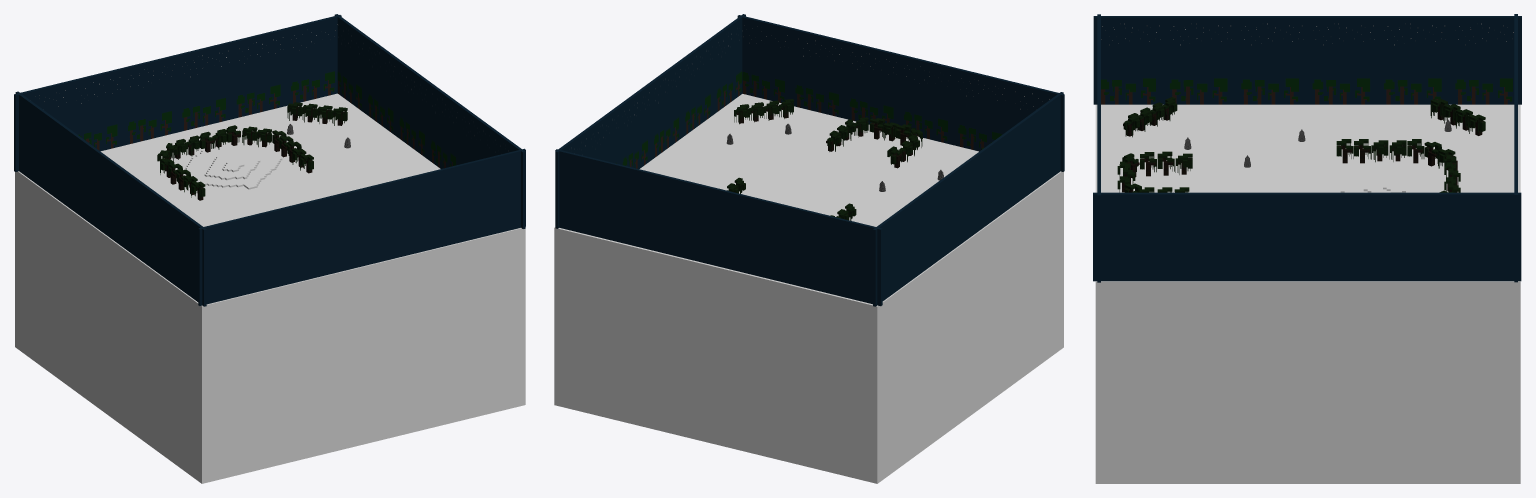
Rendered from Swamp Boss Level.fbx.
3 views of the same model, side by side, from view 1: azimuth 30°, elevation 25°; view 2: azimuth 150°, elevation 25°; view 3: azimuth 270°, elevation 25° (orthographic). The views are drawn at different scales.
Visible parts, largest first — view 1: Cube.002, Cube.032, Cube.001, Cube.013, Cube.008, Cube.526, Cube.010; view 2: Cube.002, Cube.001, Cube.032, Cube.013, Cube.008, Cube.010, Cube.025, Cube.045; view 3: Cube.002, Cube.008, Cube.013, Cube.010, Cube.526, Cube.025, Cube.050, Cube.032, Cube.001, Cube.049.
Part boxes in pixels (left/top/right/bottom): Cube.002: left=15, top=93, right=525, bottom=483; Cube.032: left=198, top=148, right=525, bottom=305; Cube.001: left=14, top=15, right=341, bottom=171; Cube.013: left=47, top=114, right=206, bottom=306; Cube.008: left=334, top=14, right=525, bottom=228; Cube.526: left=157, top=125, right=306, bottom=200; Cube.010: left=15, top=91, right=49, bottom=191; Cube.002: left=554, top=94, right=1063, bottom=483; Cube.001: left=555, top=149, right=882, bottom=306; Cube.032: left=737, top=15, right=1064, bottom=171; Cube.013: left=904, top=92, right=1063, bottom=283; Cube.008: left=555, top=14, right=745, bottom=228; Cube.010: left=873, top=206, right=906, bottom=306; Cube.025: left=826, top=117, right=922, bottom=168; Cube.045: left=734, top=99, right=793, bottom=124; Cube.002: left=1095, top=104, right=1520, bottom=483; Cube.008: left=1093, top=192, right=1521, bottom=281; Cube.013: left=1093, top=16, right=1450, bottom=104; Cube.010: left=1450, top=16, right=1521, bottom=104; Cube.526: left=1336, top=139, right=1460, bottom=192; Cube.025: left=1117, top=151, right=1192, bottom=192; Cube.050: left=1430, top=99, right=1485, bottom=135; Cube.032: left=1097, top=14, right=1100, bottom=282; Cube.001: left=1514, top=14, right=1517, bottom=282; Cube.049: left=1123, top=97, right=1177, bottom=137.
Bounding box in the file's own units: 301 × 223 × 301.
